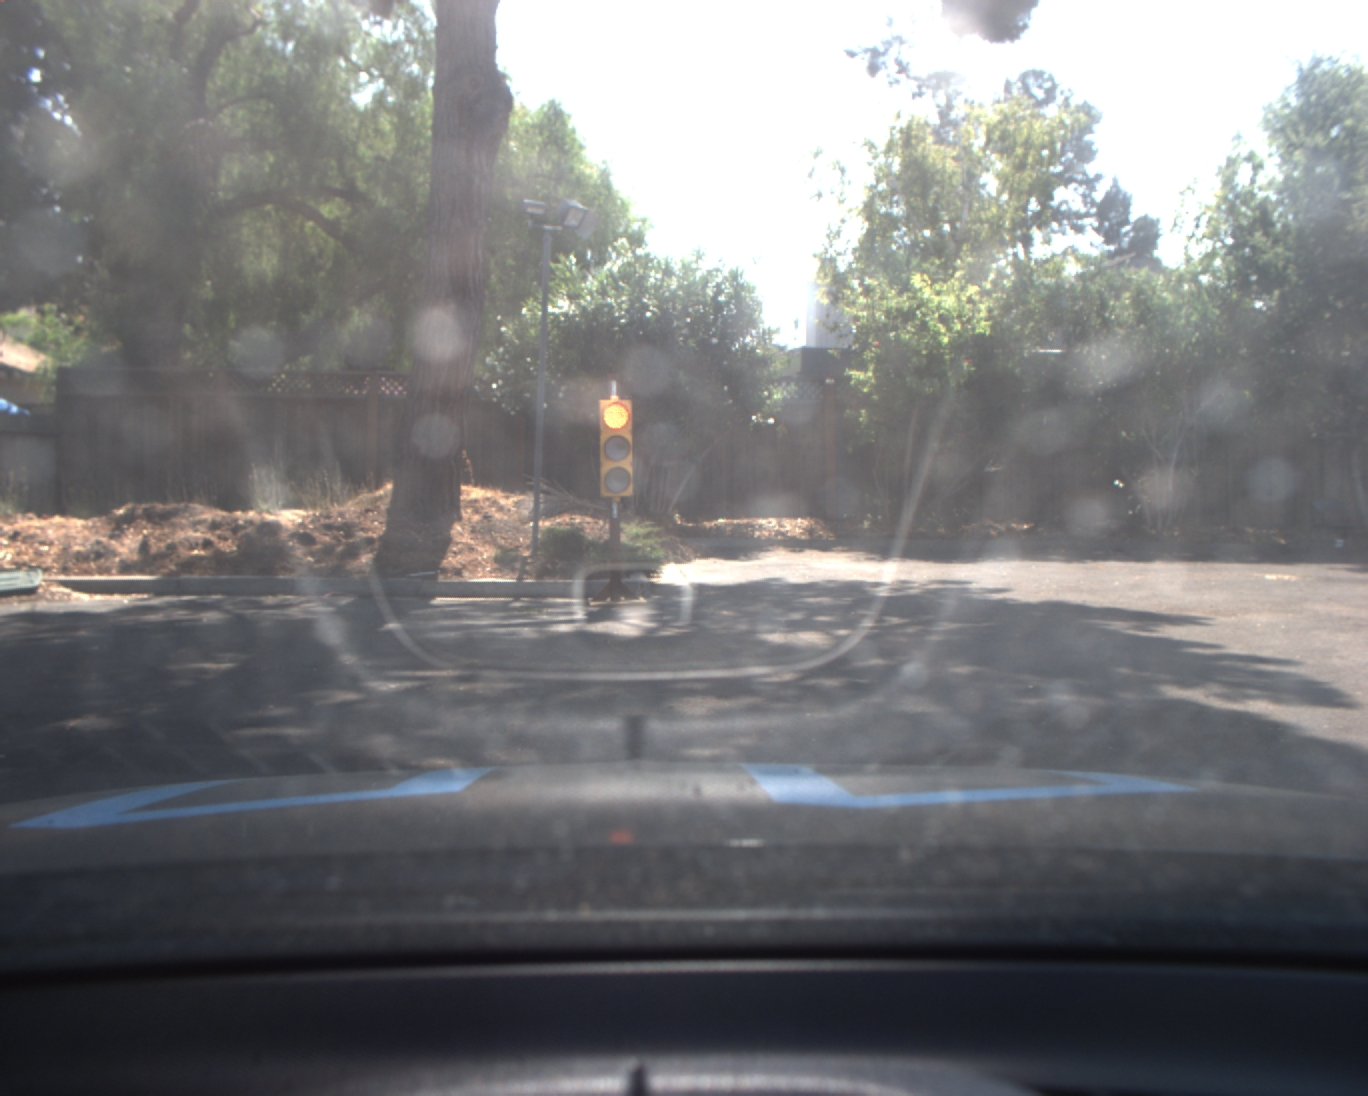red: (600, 401, 635, 499)
